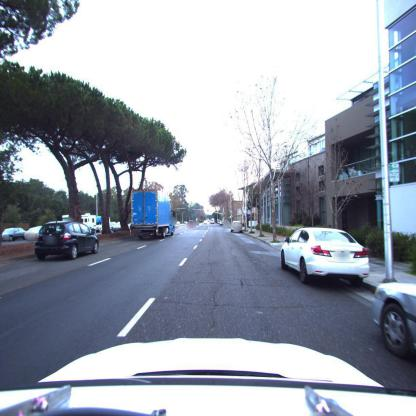car: (281, 227, 371, 287), (373, 268, 416, 366), (34, 220, 100, 260), (81, 214, 102, 235), (2, 228, 28, 243), (24, 227, 44, 243)
truck: (130, 191, 175, 238)
